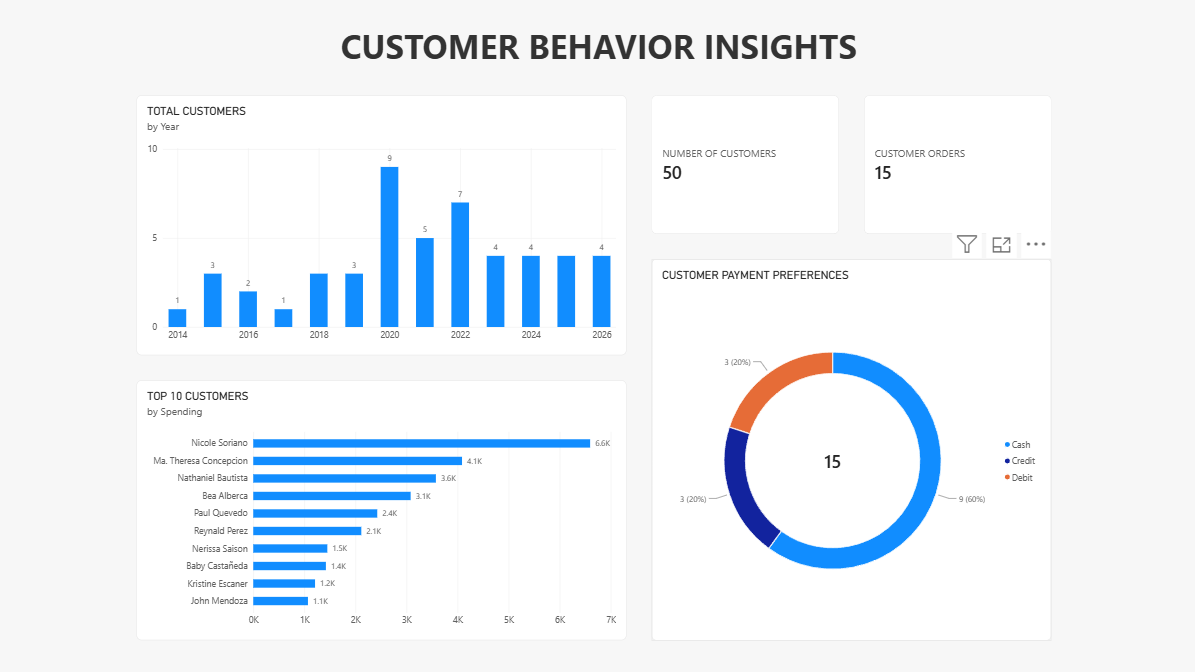

The page's visual inventory and layout, read from the dashboard file:
{"tool":"powerbi","page":{"name":"Customer Behavior Insights","canvas":[1920,1080],"ordinal":2},"visuals":[{"type":"textbox","box":[400,38,1120,108],"z":0},{"type":"clusteredColumnChart","title":"TOTAL CUSTOMERS","fields":{"Category":["customers.signup_date.Variation.Date Hierarchy.Year","customers.signup_date.Variation.Date Hierarchy.Quarter","customers.signup_date.Variation.Date Hierarchy.Month","customers.signup_date.Variation.Date Hierarchy.Day"],"Y":["customers.Total Customers"]},"box":[220,154,784,416],"z":1},{"type":"cardVisual","fields":{"Data":["CountNonNull(customers.customer_id)"]},"box":[1044.8,154,300,222],"z":2},{"type":"cardVisual","fields":{"Data":["CountNonNull(orders.customer_id)"]},"box":[1384,154,300,222],"z":3},{"type":"clusteredBarChart","title":"TOP 10 CUSTOMERS","fields":{"Category":["customers.name"],"Y":["customers.Customer Spending"]},"box":[220,610,784,416],"z":4},{"type":"donutChart","title":"CUSTOMER PAYMENT PREFERENCES","fields":{"Category":["payments.payment_method"],"Y":["payments.Total Payments"]},"box":[1044,416,640,610],"z":5}]}

Visuals, with their boxes in screenshot pixels (x1, y1, x2, y2), scaled from the page's 1920x1080 canvas onto the 1195x672 screenshot:
textbox: pyautogui.locateOnScreen(249, 24, 946, 91)
"TOTAL CUSTOMERS" clusteredColumnChart: pyautogui.locateOnScreen(137, 96, 625, 355)
cardVisual - CountNonNull(customers.customer_id): pyautogui.locateOnScreen(650, 96, 837, 234)
cardVisual - CountNonNull(orders.customer_id): pyautogui.locateOnScreen(861, 96, 1048, 234)
"TOP 10 CUSTOMERS" clusteredBarChart: pyautogui.locateOnScreen(137, 380, 625, 638)
"CUSTOMER PAYMENT PREFERENCES" donutChart: pyautogui.locateOnScreen(650, 259, 1048, 638)
